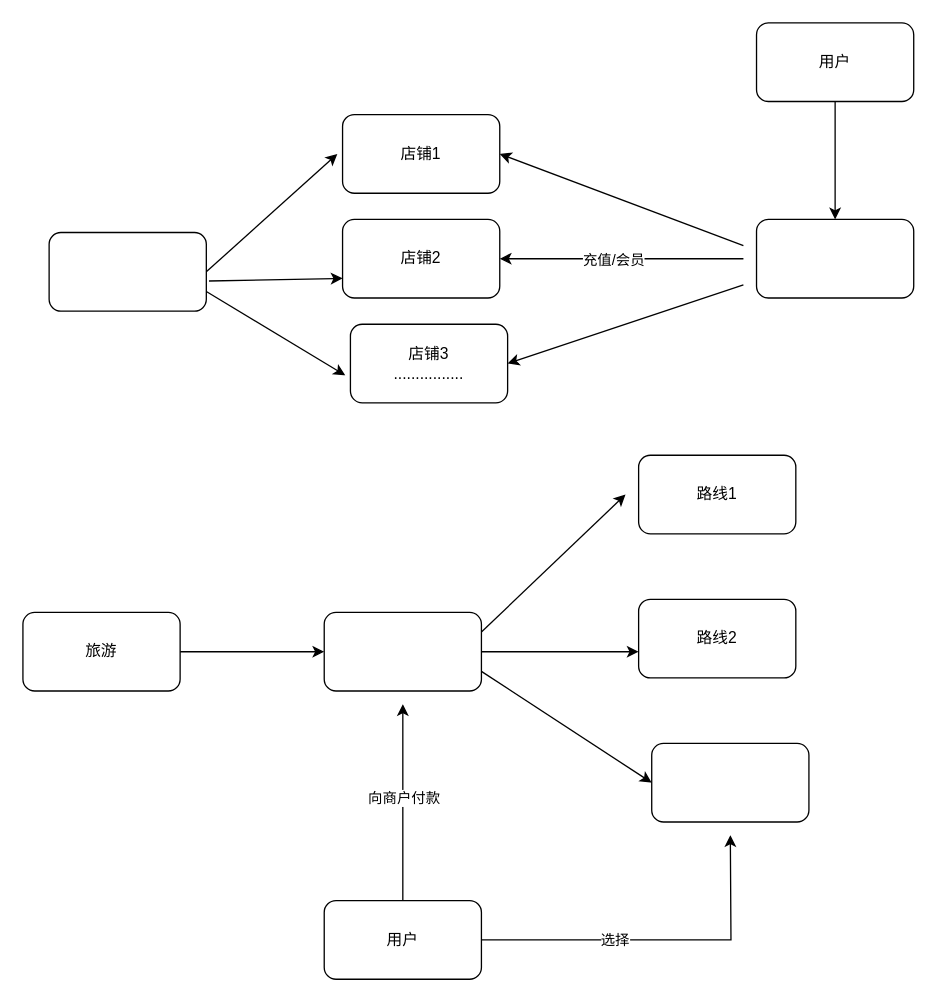
Some shapes in this 937 by 1002 pixel diagram are drawn without their labels. Here are the shapes that lost their labels. From the top down, the box of each, then its label:
(48, 231, 206, 311): 餐饮
(755, 218, 914, 298): 某家店铺付款
(323, 611, 481, 691): 仅1家店铺
(650, 742, 809, 822): 路线3 .............
